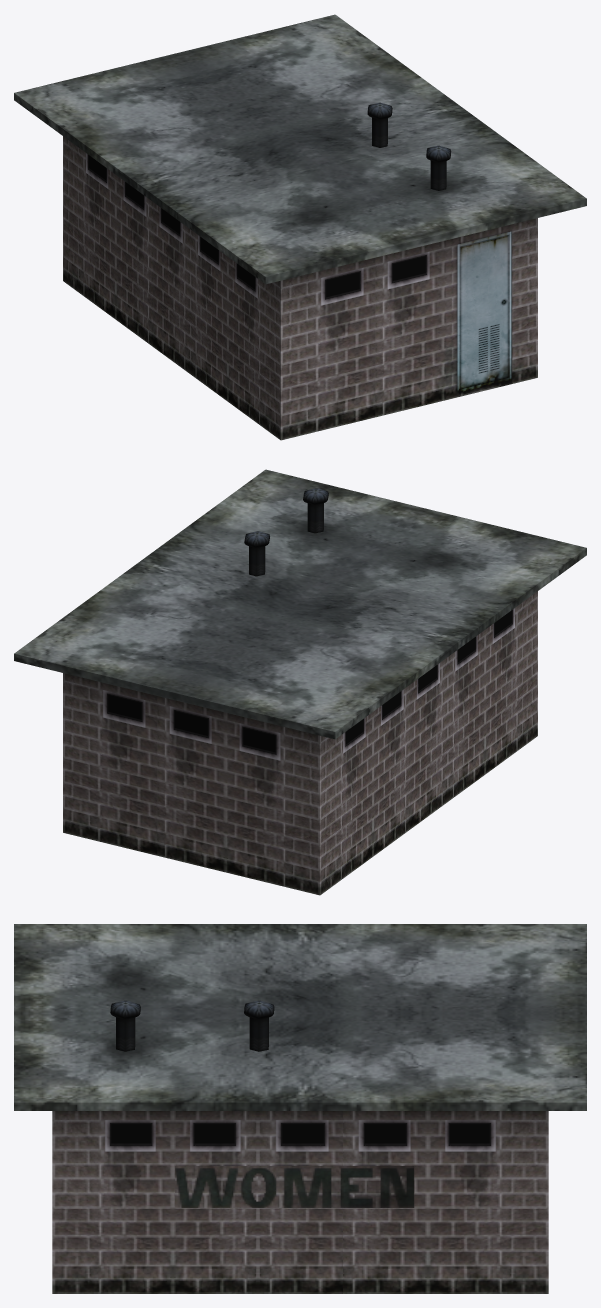
Rendered from house10.obj.
The picture shows the model from 3 angles, top to bottom: view 1: azimuth 30°, elevation 25°; view 2: azimuth 150°, elevation 25°; view 3: azimuth 270°, elevation 25°; orthographic projection. The views are drawn at different scales.
Parts seen in each view (by area): view 1: City_building_008.001; view 2: City_building_008.001; view 3: City_building_008.001.
Part boxes in pixels (x1,y1,x2,y2): City_building_008.001: (14,14,586,440); City_building_008.001: (14,469,586,895); City_building_008.001: (14,924,586,1293).
Bounding box in the file's own units: 1.04 × 0.6888 × 1.41.
1 material, 1 textured.
